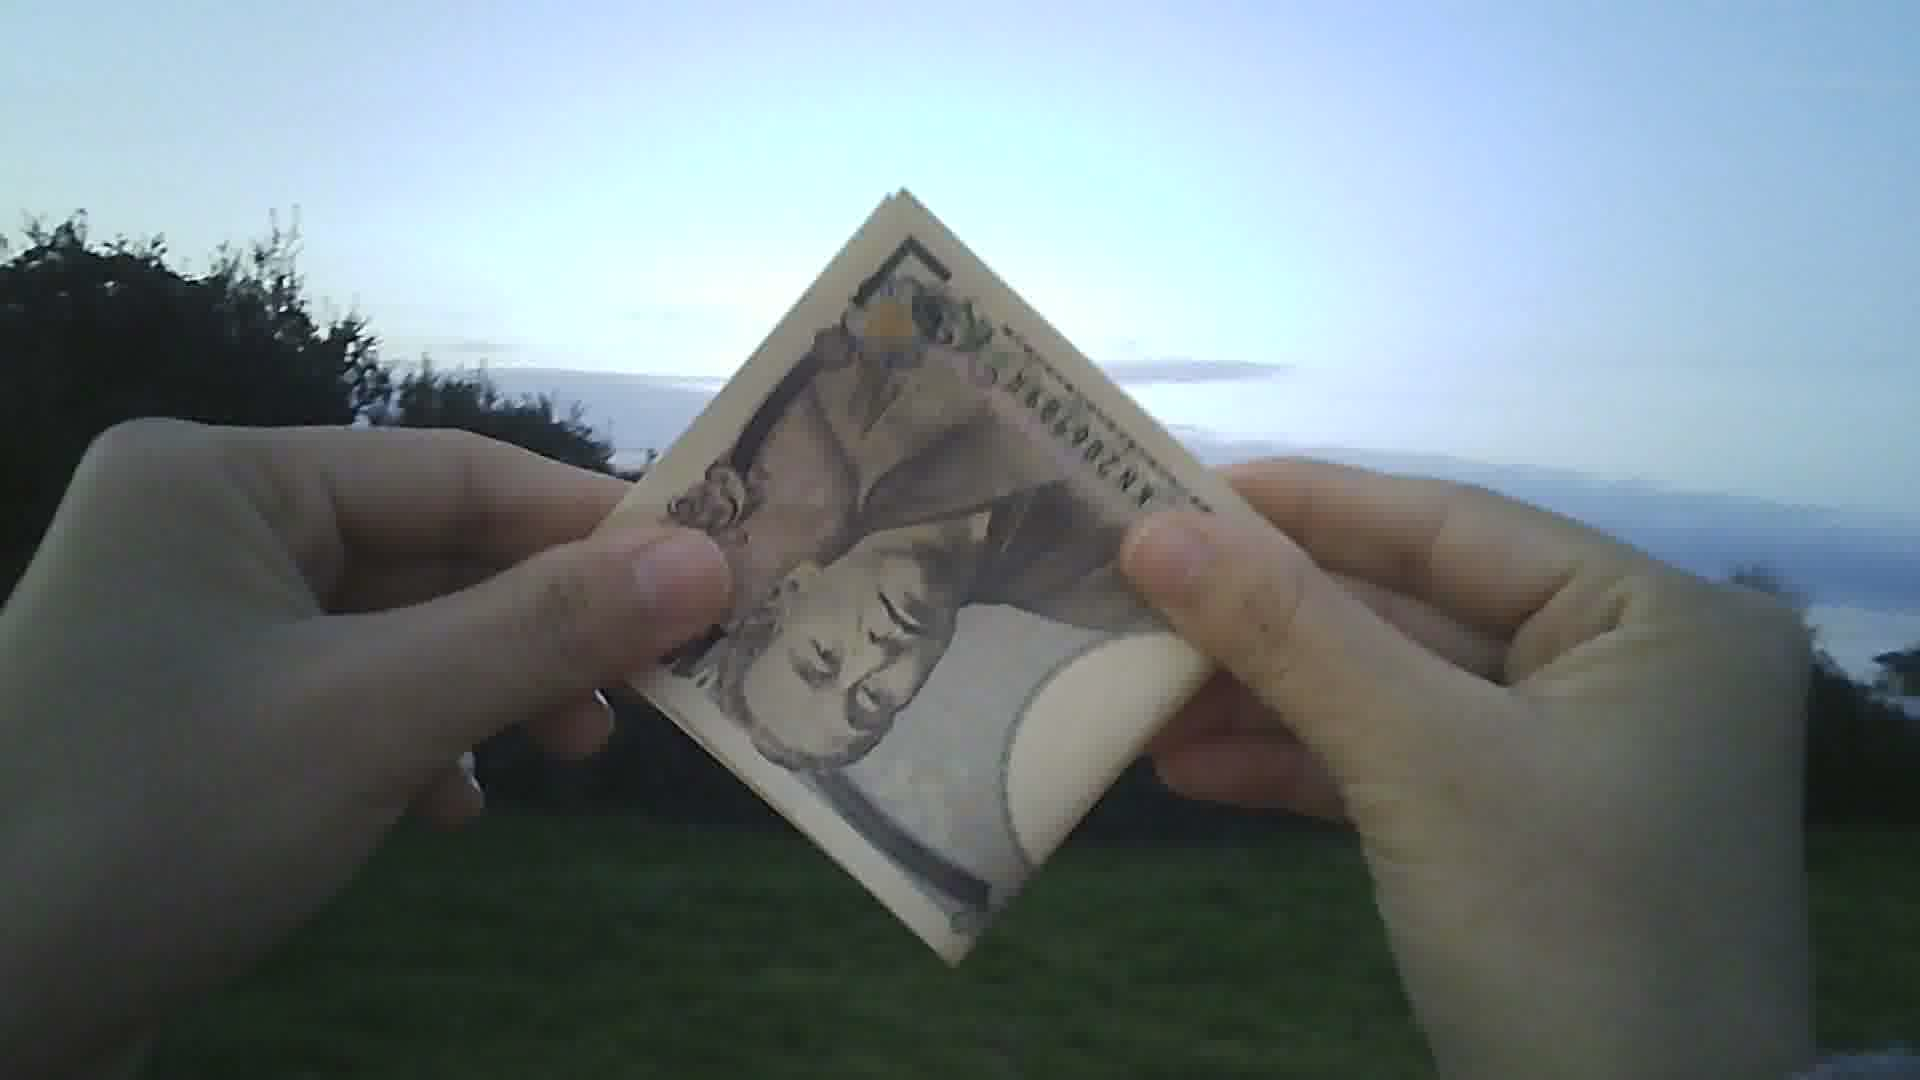10,000 Yen: (585, 185, 1255, 986)
